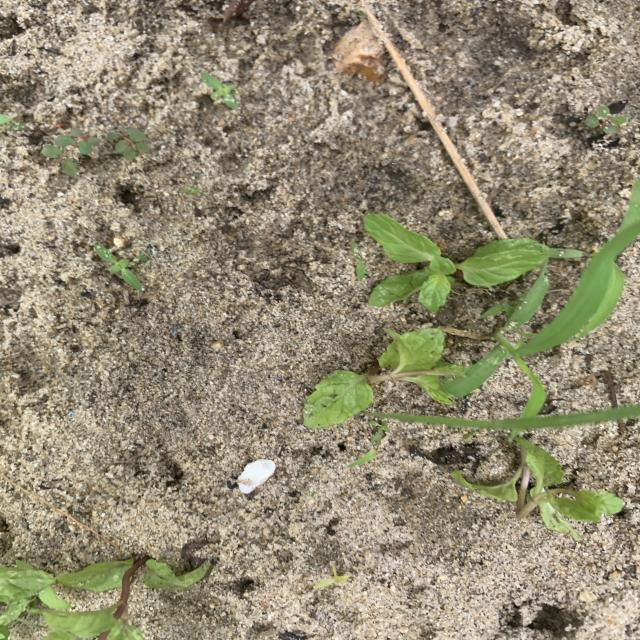crop: (364, 213, 549, 312), (451, 437, 623, 542), (0, 555, 211, 640), (303, 329, 465, 428)
weed: (444, 180, 640, 418), (371, 404, 640, 438), (41, 127, 151, 177), (94, 245, 144, 292), (582, 101, 628, 151), (200, 71, 240, 110), (314, 561, 350, 590), (349, 449, 378, 467), (139, 256, 147, 264), (379, 436, 386, 444)
